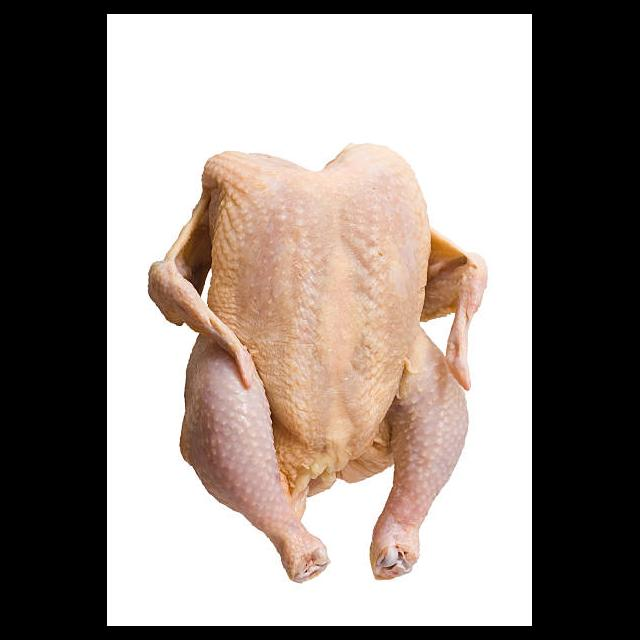chicken: (141, 139, 486, 578)
